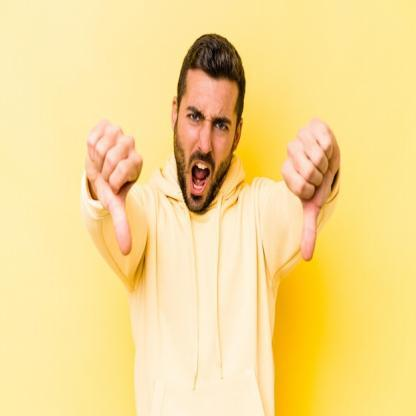thumb_down: (280, 112, 342, 264), (84, 116, 145, 260)
